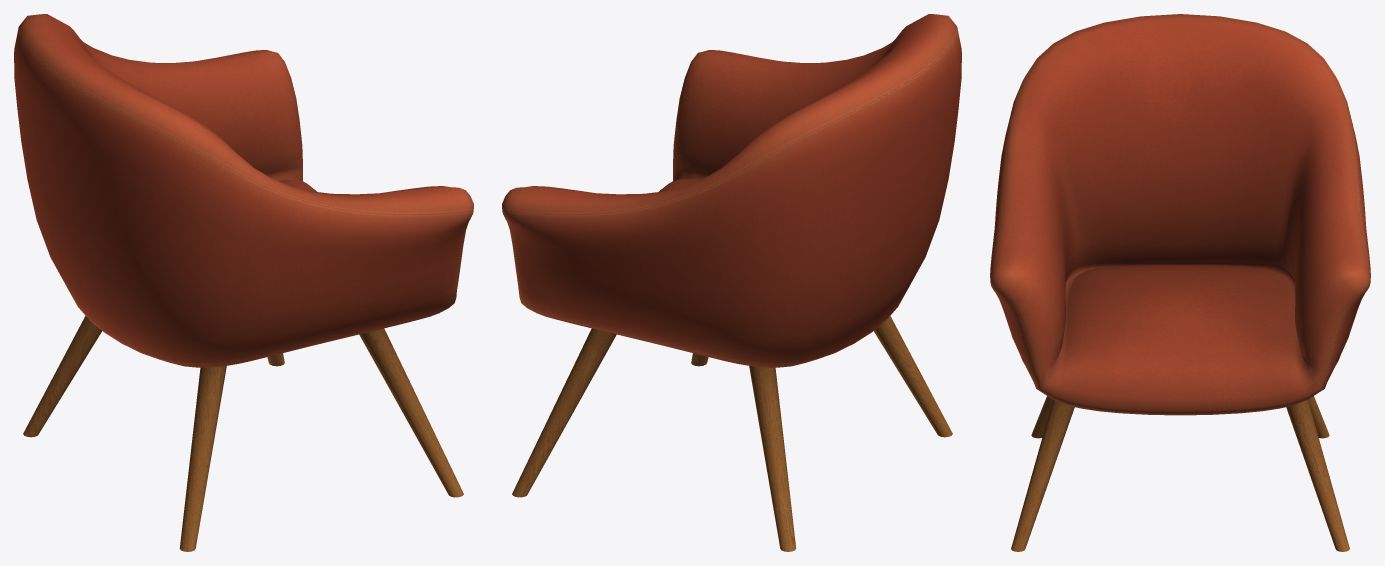
File: easyChair.gltf
3 renders of one model, left to right at view 1: azimuth 30°, elevation 25°; view 2: azimuth 150°, elevation 25°; view 3: azimuth 270°, elevation 25°, orthographic. The views are drawn at different scales.
Visible parts, largest first — view 1: EasyChair; view 2: EasyChair; view 3: EasyChair.
Part boxes in pixels (x1=…): EasyChair: x1=14, y1=14, x2=473, y2=551; EasyChair: x1=502, y1=14, x2=961, y2=551; EasyChair: x1=990, y1=14, x2=1370, y2=551.
Size of the model in its own units: 0.6662 by 0.8395 by 0.724.
1 material, 1 textured.
